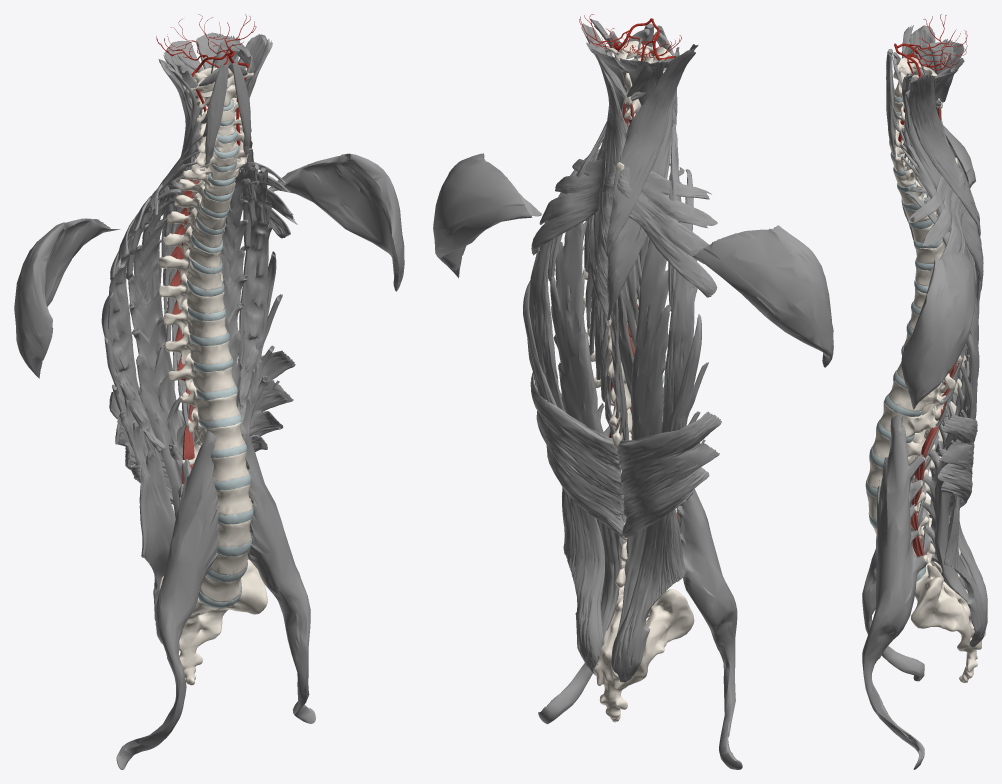
The model's file is spine.glb.
3 views of the same model, side by side, from view 1: azimuth 30°, elevation 25°; view 2: azimuth 150°, elevation 25°; view 3: azimuth 270°, elevation 25° (orthographic). The views are drawn at different scales.
Parts seen in each view (by area): view 1: right psoas major, right longissimus thoracis, spinal part of left deltoid, left psoas major, spinal part of right deltoid, right iliocostalis lumborum, left iliocostalis thoracis, right iliocostalis thoracis, left longissimus thoracis, sacrum, left serratus posterior inferior, left iliocostalis lumborum (+25 smaller); view 2: spinal part of right deltoid, left longissimus thoracis, right serratus posterior inferior, right iliocostalis lumborum, right longissimus thoracis, left serratus posterior inferior, spinal part of left deltoid, right psoas major, left iliocostalis lumborum, right serratus posterior superior, right splenius capitis, sacrum (+13 smaller); view 3: left psoas major, spinal part of left deltoid, sacrum, left splenius capitis, left longissimus thoracis, left iliocostalis lumborum, left serratus posterior inferior, left serratus posterior superior, right psoas major, left splenius cervicis, vertebra.002, vertebra.001 (+27 smaller).
Boxes of the visible parts, x1,y1,x2,y2 form: right psoas major: (116,430,220,769); right longissimus thoracis: (128,175,185,518); spinal part of left deltoid: (268,153,404,291); left psoas major: (240,423,315,723); spinal part of right deltoid: (14,218,120,378); right iliocostalis lumborum: (101,291,175,620); left iliocostalis thoracis: (236,167,271,423); right iliocostalis thoracis: (107,189,181,452); left longissimus thoracis: (219,159,259,385); sacrum: (155,559,267,685); left serratus posterior inferior: (249,350,295,451); left iliocostalis lumborum: (198,251,282,629); spinal part of right deltoid: (691,225,833,367); left longissimus thoracis: (550,149,624,647); right serratus posterior inferior: (617,411,721,537); right iliocostalis lumborum: (611,314,708,682); right longissimus thoracis: (617,167,684,634); left serratus posterior inferior: (530,372,624,536); spinal part of left deltoid: (433,153,541,278); right psoas major: (677,489,742,769); left iliocostalis lumborum: (523,280,604,675); right serratus posterior superior: (617,167,717,297); right splenius capitis: (607,49,695,256); sacrum: (593,585,694,722); left psoas major: (862,414,926,769); spinal part of left deltoid: (901,252,975,409); sacrum: (911,562,985,682); left splenius capitis: (908,74,980,236); left longissimus thoracis: (910,179,978,602); left iliocostalis lumborum: (944,333,987,647); left serratus posterior inferior: (937,414,977,515); left serratus posterior superior: (907,164,967,274); right psoas major: (862,430,924,681); left splenius cervicis: (903,91,983,290); vertebra.002: (880,401,942,442); vertebra.001: (888,378,956,418).
Bounding box in the file's own units: 0.4383 × 0.7821 × 0.1287.
